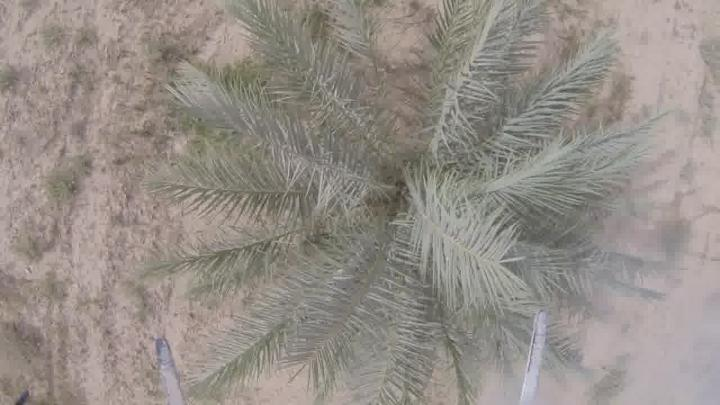Date-Palm-Crown: (283, 92, 558, 326)
